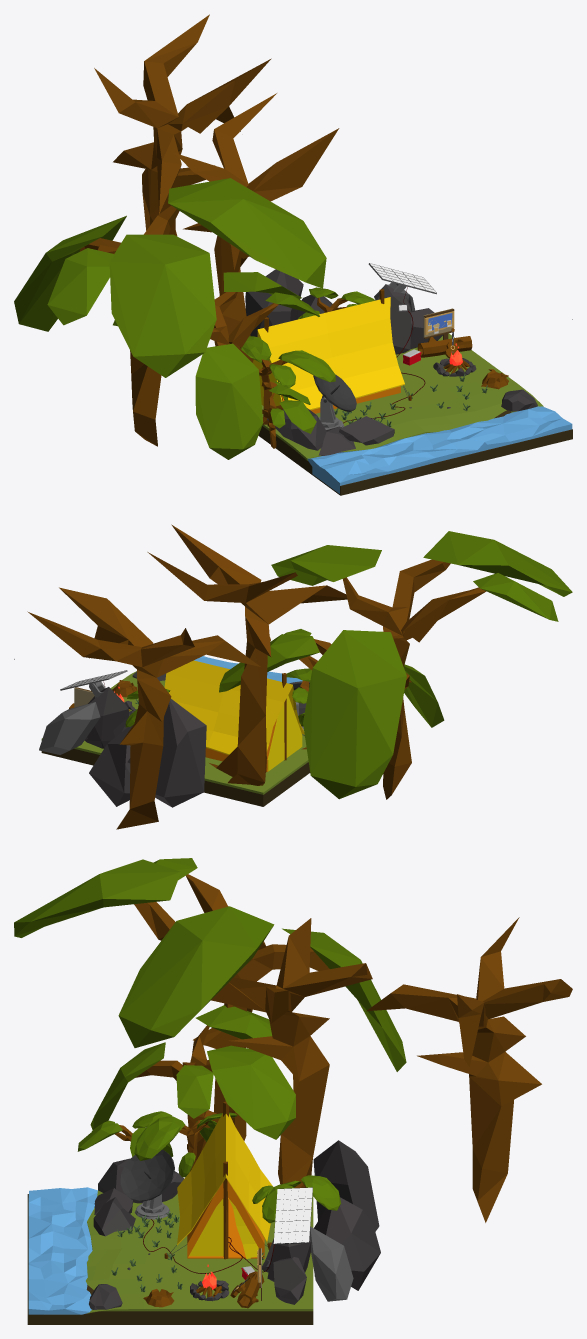
Rendered from camp_simple_export2.glb.
3 renders of one model, top to bottom at view 1: azimuth 30°, elevation 25°; view 2: azimuth 150°, elevation 25°; view 3: azimuth 270°, elevation 25°, orthographic. The views are drawn at different scales.
Parts seen in each view (by area): view 1: Small Tree 2.003, Big Tree.001, Small Tree 2.002, Tent-main.001, Rock2.007, Rock2.003, Big Tree, Rock2.005, Rock_1.004, Small Tree Leaves 1, Rock2.009, Rock2.001 (+7 smaller); view 2: Small Tree 2.003, Big Tree.001, Big Tree, Rock2.009, Tent-main.001, Small Tree 2.002, Rock2.007, Rock.001, Rock2.001, Tent-main.002, Rock2.005, Rock2.008 (+2 smaller); view 3: Small Tree 2.003, Big Tree.001, Big Tree, Small Tree 2.002, Rock2.007, Rock2.003, Rock2.009, Tent-main.001, Rock2.005, Rock_1.004, Small Tree Leaves 1, Rock.001 (+11 smaller).
Boxes of the visible parts, left/top/right/bottom form: Small Tree 2.003: left=14, top=178, right=326, bottom=446; Big Tree.001: left=94, top=14, right=271, bottom=235; Small Tree 2.002: left=113, top=272, right=319, bottom=459; Tent-main.001: left=252, top=297, right=404, bottom=410; Rock2.007: left=261, top=333, right=543, bottom=460; Rock2.003: left=307, top=406, right=572, bottom=493; Big Tree: left=175, top=93, right=339, bottom=362; Rock2.005: left=258, top=429, right=572, bottom=495; Rock_1.004: left=267, top=408, right=394, bottom=455; Small Tree Leaves 1: left=240, top=336, right=335, bottom=400; Rock2.009: left=245, top=269, right=332, bottom=336; Rock2.001: left=377, top=284, right=442, bottom=354; Small Tree 2.003: left=271, top=531, right=572, bottom=799; Big Tree.001: left=27, top=587, right=260, bottom=829; Big Tree: left=147, top=524, right=347, bottom=785; Rock2.009: left=89, top=698, right=206, bottom=807; Tent-main.001: left=164, top=660, right=304, bottom=755; Small Tree 2.002: left=219, top=629, right=444, bottom=727; Rock2.007: left=41, top=671, right=308, bottom=794; Rock.001: left=39, top=702, right=100, bottom=754; Rock2.001: left=84, top=687, right=130, bottom=748; Tent-main.002: left=267, top=695, right=302, bottom=771; Rock2.005: left=41, top=751, right=310, bottom=806; Rock2.008: left=69, top=749, right=308, bottom=798; Small Tree 2.003: left=14, top=858, right=406, bottom=1140; Big Tree.001: left=366, top=917, right=572, bottom=1222; Big Tree: left=211, top=918, right=372, bottom=1207; Small Tree 2.002: left=90, top=1005, right=295, bottom=1160; Rock2.007: left=86, top=1190, right=313, bottom=1313; Rock2.003: left=28, top=1187, right=97, bottom=1314; Rock2.009: left=313, top=1140, right=380, bottom=1290; Tent-main.001: left=177, top=1113, right=272, bottom=1245; Rock2.005: left=27, top=1230, right=313, bottom=1324; Rock_1.004: left=93, top=1158, right=184, bottom=1236; Small Tree Leaves 1: left=132, top=1111, right=237, bottom=1177; Rock.001: left=309, top=1226, right=353, bottom=1301.
Bounding box in the file's own units: 18.7 × 9.22 × 15.66.
